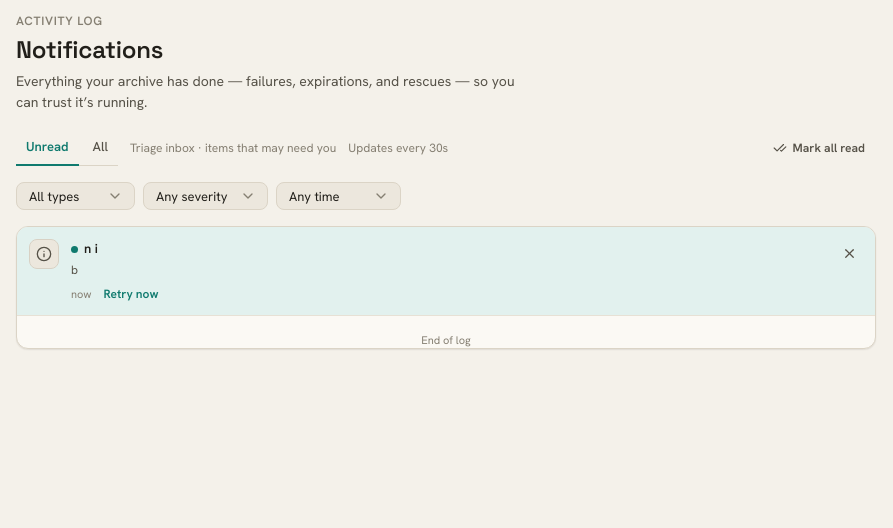
empties › a narrowing filter with no matches → filtered-empty + Clear filters
Check: the text "n i" is shown, box [84,239,98,259]
Select "Critical only" in the 2nd dropdown named "Filter by severity": (206, 196) [143,182,268,210]
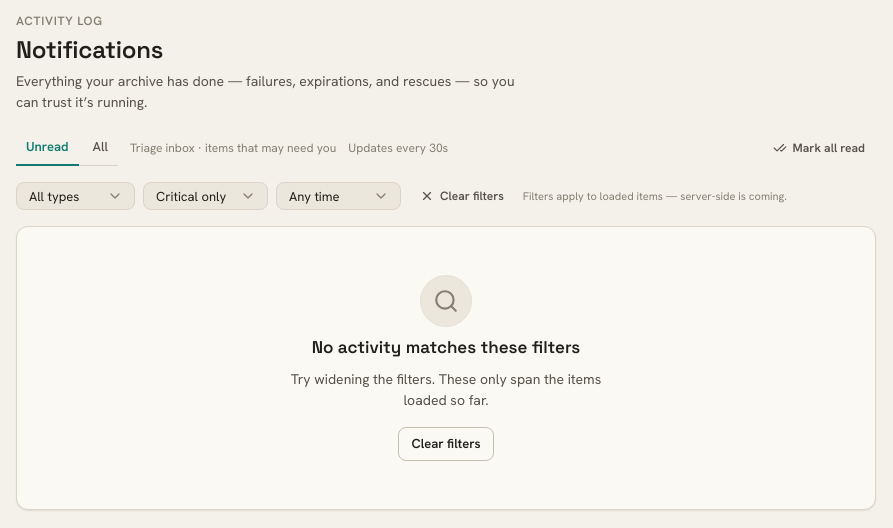
Check: the text "No activity matches these filters" is shown, box [312,335,580,361]
Check: the 1st button "Clear filters" is shown, box [409,182,515,210]
